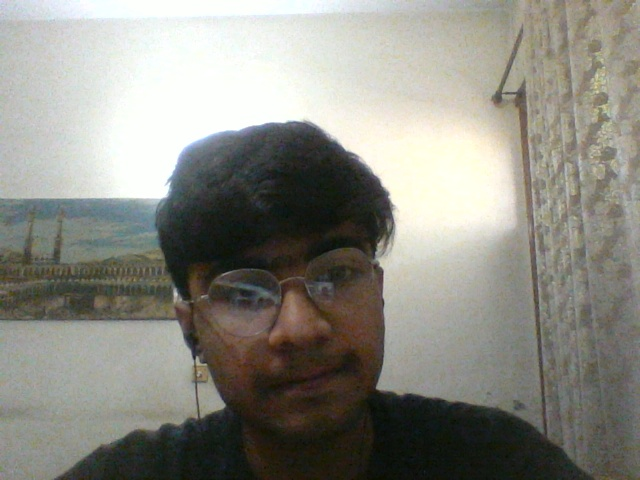happy: (189, 227, 391, 436)
